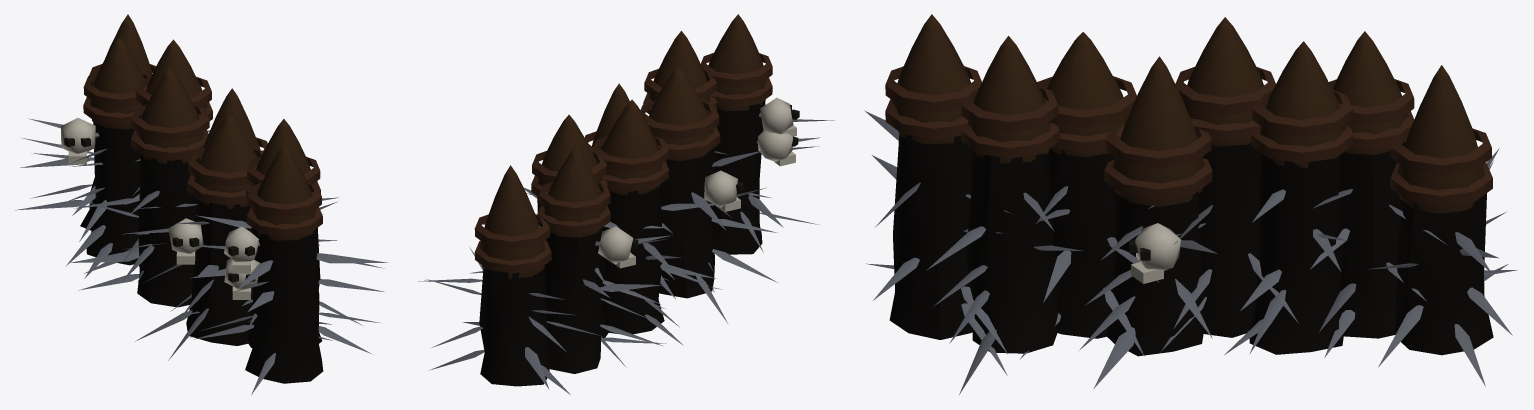
Rendered from TarPRWall02.glb.
3 renders of one model, left to right at view 1: azimuth 30°, elevation 25°; view 2: azimuth 150°, elevation 25°; view 3: azimuth 270°, elevation 25°, orthographic. The views are drawn at different scales.
Visible parts, largest first — view 1: pal_body; view 2: pal_body; view 3: pal_body.
Part boxes in pixels (bbox=[...]): pal_body: bbox=[15, 14, 388, 394]; pal_body: bbox=[418, 14, 834, 394]; pal_body: bbox=[864, 14, 1517, 394].
Bounding box in the file's own units: 3.41 × 3.94 × 7.36.
